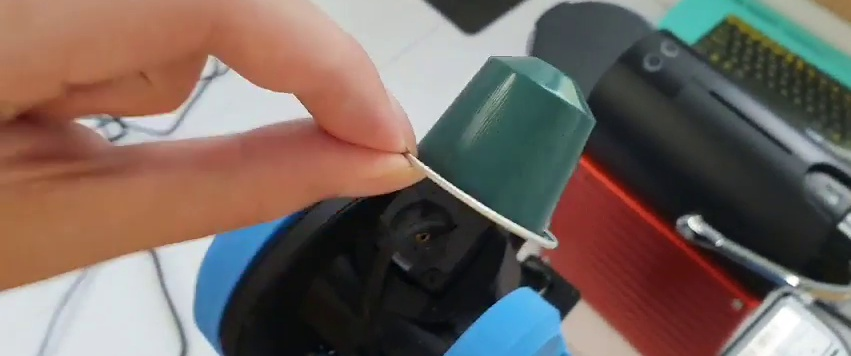capsule_13: (407, 55, 594, 252)
